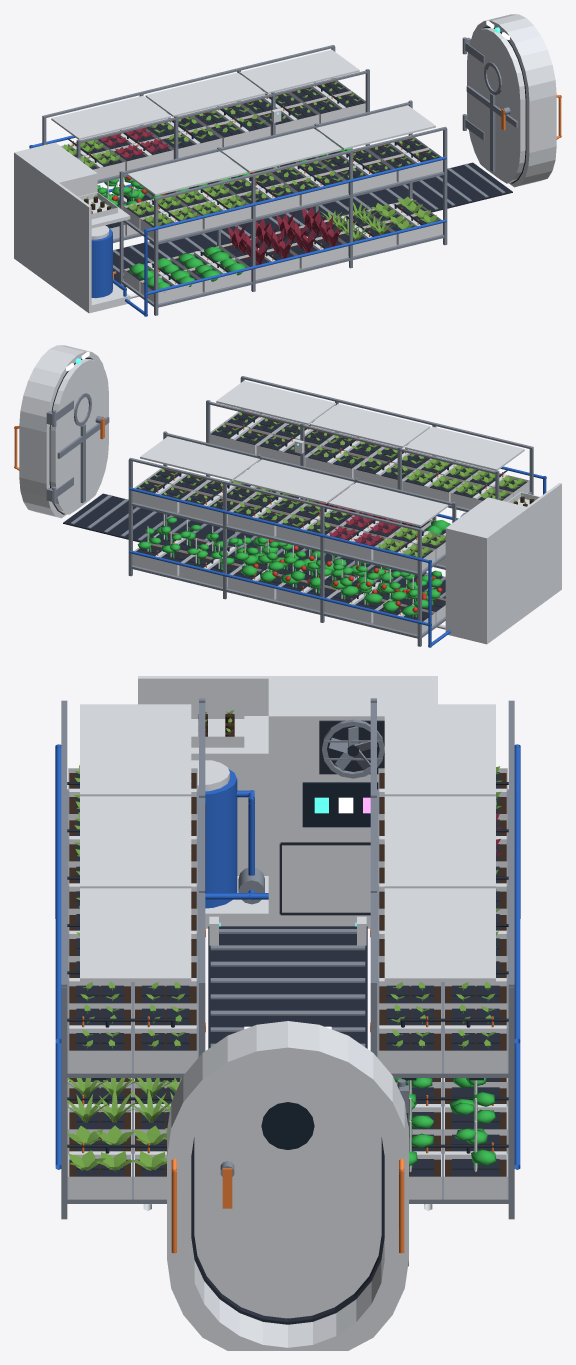
Rendered from greenhouse.glb.
The picture shows the model from 3 angles, top to bottom: view 1: azimuth 30°, elevation 25°; view 2: azimuth 150°, elevation 25°; view 3: azimuth 270°, elevation 25°; orthographic projection. The views are drawn at different scales.
Parts seen in each view (by area): view 1: greenhouse_doorframe_white, greenhouse_doorframe_dark, greenhouse_doorframe_steel, greenhouse_door_leaf_white, greenhouse_env_blue, greenhouse_plants_young_leaf_light, greenhouse_plants_mature_leaf_red, greenhouse_plants_mature_leaf, greenhouse_plants_seedling_leaf_light, greenhouse_env_media, greenhouse_door_leaf_steel, greenhouse_plants_mature_leaf_light (+2 smaller); view 2: greenhouse_doorframe_white, greenhouse_doorframe_dark, greenhouse_doorframe_steel, greenhouse_door_leaf_white, greenhouse_plants_mature_leaf, greenhouse_env_blue, greenhouse_plants_young_leaf_light, greenhouse_plants_seedling_leaf_light, greenhouse_env_media, greenhouse_plants_young_leaf, greenhouse_door_leaf_steel, greenhouse_plants_young_leaf_red (+3 smaller); view 3: greenhouse_doorframe_white, greenhouse_door_leaf_white, greenhouse_doorframe_dark, greenhouse_doorframe_steel, greenhouse_env_media, greenhouse_env_blue, greenhouse_plants_young_leaf, greenhouse_env_window, greenhouse_plants_young_leaf_light, greenhouse_plants_mature_leaf_light, greenhouse_plants_seedling_leaf_light, greenhouse_door_leaf_window (+2 smaller).
Part boxes in pixels (bbox=[...]): greenhouse_doorframe_white: bbox=[14, 14, 556, 313]; greenhouse_doorframe_dark: bbox=[67, 26, 526, 290]; greenhouse_doorframe_steel: bbox=[42, 37, 505, 315]; greenhouse_door_leaf_white: bbox=[467, 28, 525, 183]; greenhouse_env_blue: bbox=[29, 90, 446, 316]; greenhouse_plants_young_leaf_light: bbox=[62, 139, 439, 229]; greenhouse_plants_mature_leaf_red: bbox=[226, 207, 342, 264]; greenhouse_plants_mature_leaf: bbox=[97, 161, 263, 292]; greenhouse_plants_seedling_leaf_light: bbox=[84, 81, 438, 209]; greenhouse_env_media: bbox=[74, 81, 429, 283]; greenhouse_door_leaf_steel: bbox=[465, 43, 518, 172]; greenhouse_plants_mature_leaf_light: bbox=[320, 202, 394, 241]; greenhouse_doorframe_white: bbox=[19, 345, 561, 644]; greenhouse_doorframe_dark: bbox=[49, 357, 525, 621]; greenhouse_doorframe_steel: bbox=[46, 376, 533, 646]; greenhouse_door_leaf_white: bbox=[50, 359, 108, 514]; greenhouse_plants_mature_leaf: bbox=[234, 520, 450, 617]; greenhouse_env_blue: bbox=[129, 421, 546, 647]; greenhouse_plants_young_leaf_light: bbox=[232, 459, 526, 557]; greenhouse_plants_seedling_leaf_light: bbox=[137, 412, 533, 531]; greenhouse_env_media: bbox=[147, 412, 534, 619]; greenhouse_plants_young_leaf: bbox=[137, 517, 248, 569]; greenhouse_door_leaf_steel: bbox=[56, 393, 109, 503]; greenhouse_plants_young_leaf_red: bbox=[328, 515, 398, 545]; greenhouse_doorframe_white: bbox=[68, 676, 507, 1350]; greenhouse_door_leaf_white: bbox=[194, 1069, 381, 1318]; greenhouse_doorframe_dark: bbox=[67, 720, 508, 1324]; greenhouse_doorframe_steel: bbox=[61, 698, 514, 1266]; greenhouse_env_media: bbox=[69, 713, 506, 1176]; greenhouse_env_blue: bbox=[55, 744, 520, 1169]; greenhouse_plants_young_leaf: bbox=[394, 1078, 496, 1168]; greenhouse_env_window: bbox=[205, 782, 378, 893]; greenhouse_plants_young_leaf_light: bbox=[67, 765, 502, 1170]; greenhouse_plants_mature_leaf_light: bbox=[60, 1078, 181, 1122]; greenhouse_plants_seedling_leaf_light: bbox=[76, 710, 500, 1048]; greenhouse_door_leaf_window: bbox=[261, 1102, 314, 1149].
Bounding box in the file's own units: 4.6 × 1.39 × 1.92.
